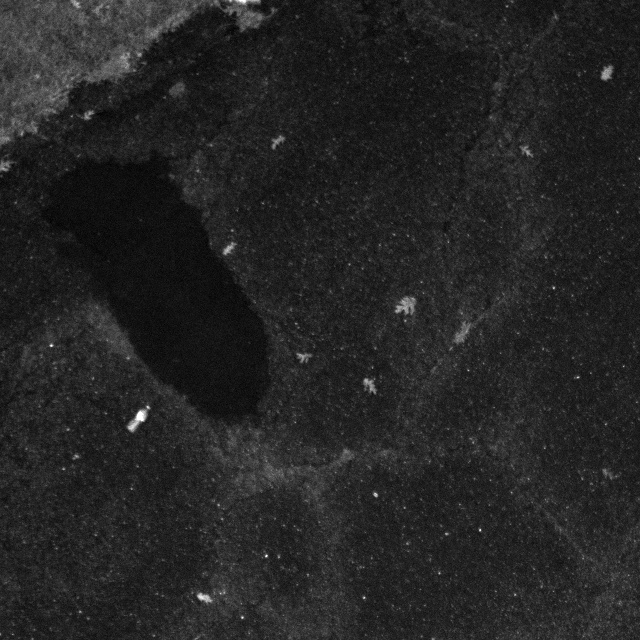bottle: (127, 402, 158, 435)
